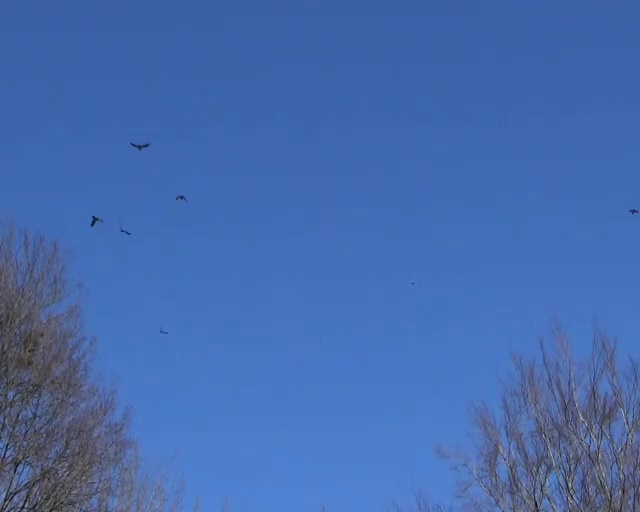BIRD: (90, 215, 103, 227)
